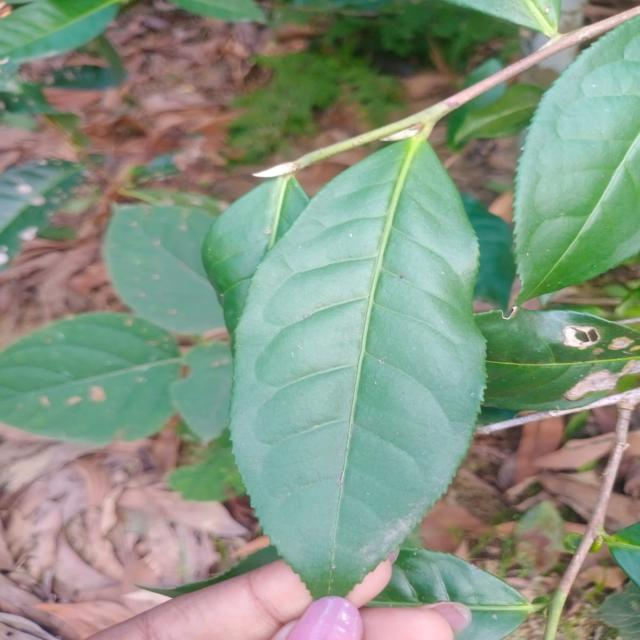Category D(7+ days, Not for Tea): (213, 114, 488, 615)
